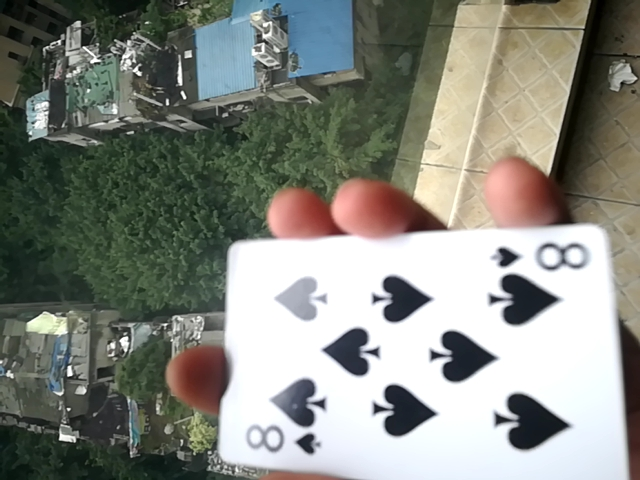ht 8: (207, 226, 631, 480)
